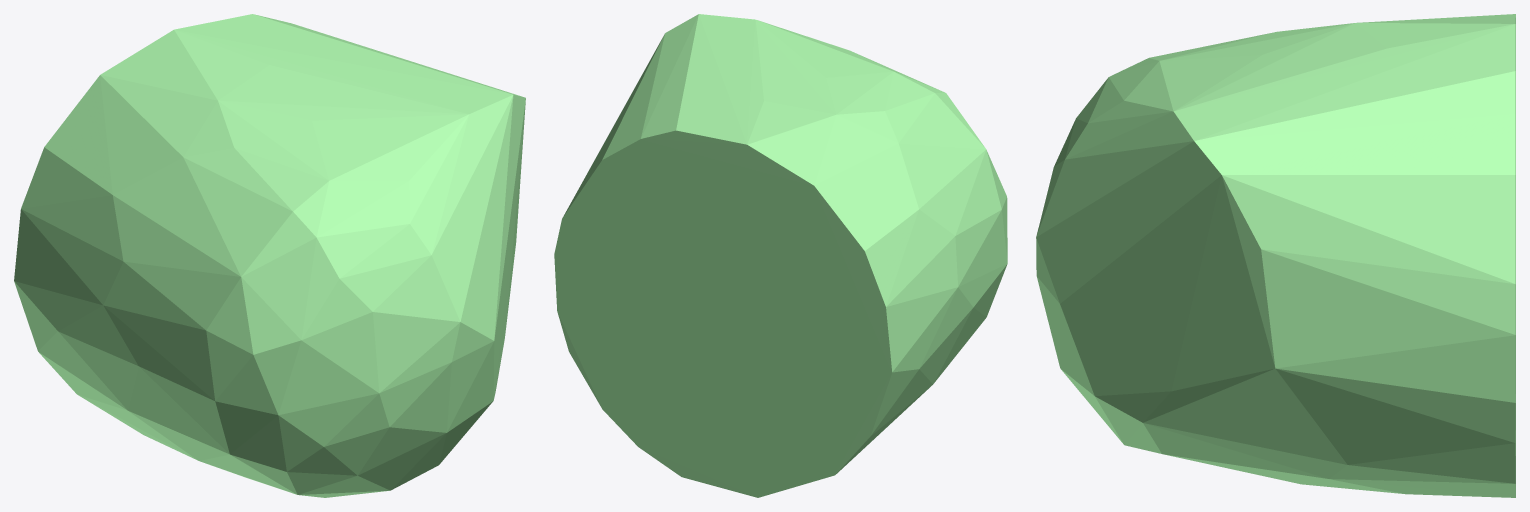
The model's file is exported_panda_link4_resp_coll_2.dae.
The picture shows the model from 3 angles, left to right: view 1: azimuth 30°, elevation 25°; view 2: azimuth 150°, elevation 25°; view 3: azimuth 270°, elevation 25°; orthographic projection. The views are drawn at different scales.
Parts seen in each view (by area): view 1: node; view 2: node; view 3: node.
Part boxes in pixels (x1,y1,x2,y2): node: (14, 14, 525, 497); node: (554, 14, 1007, 497); node: (1036, 14, 1515, 497).
Size of the model in its own units: 0.1164 by 0.109 by 0.1088.
